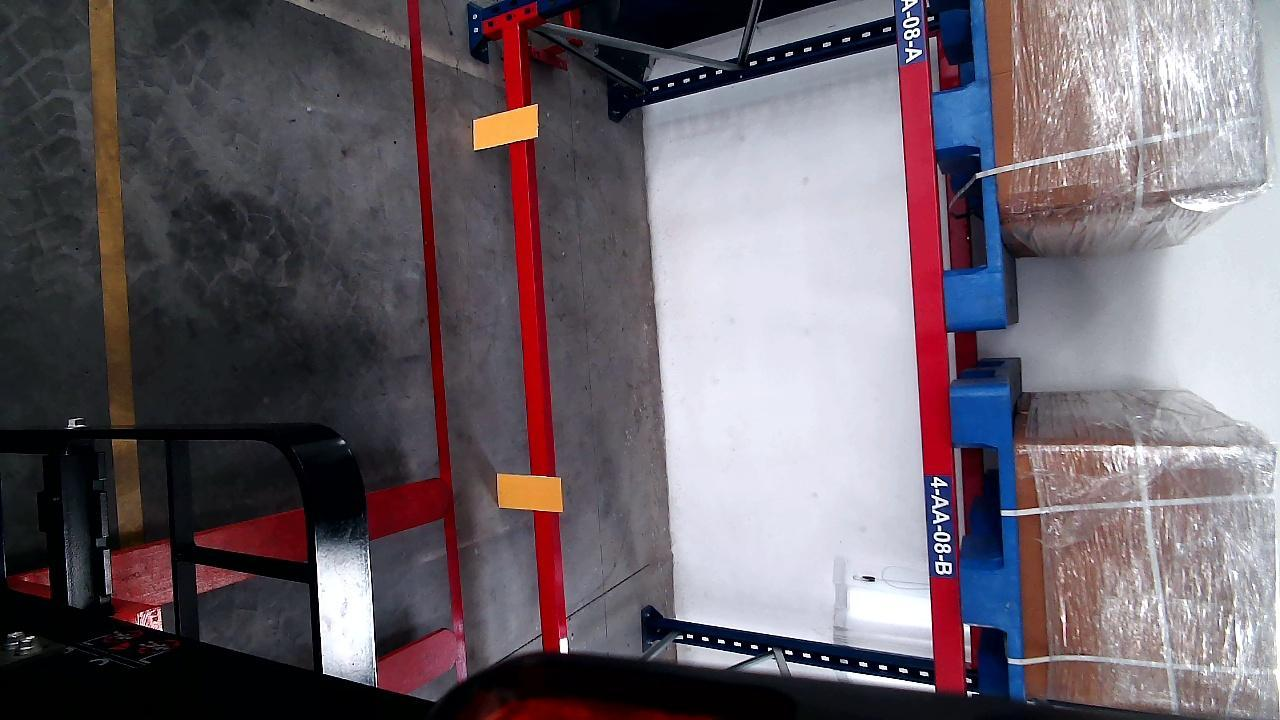red_line: (406, 1, 468, 686)
yellow_line: (89, 0, 141, 538)
